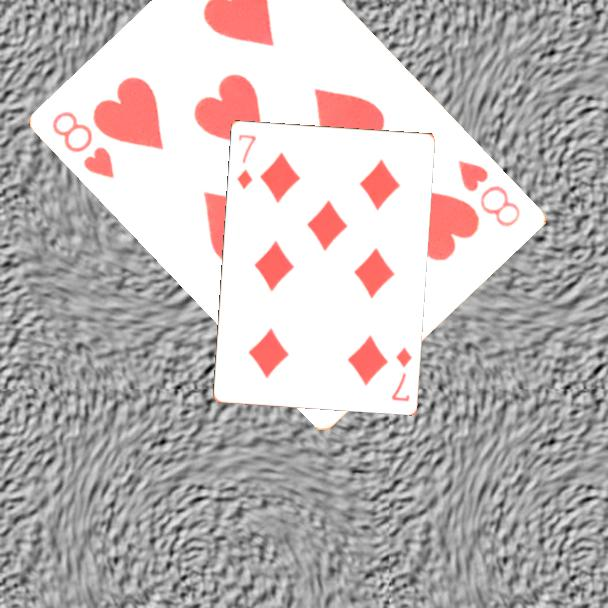d07: (387, 343, 415, 404), (233, 130, 259, 192)
h08: (455, 156, 525, 231), (49, 108, 118, 182)
